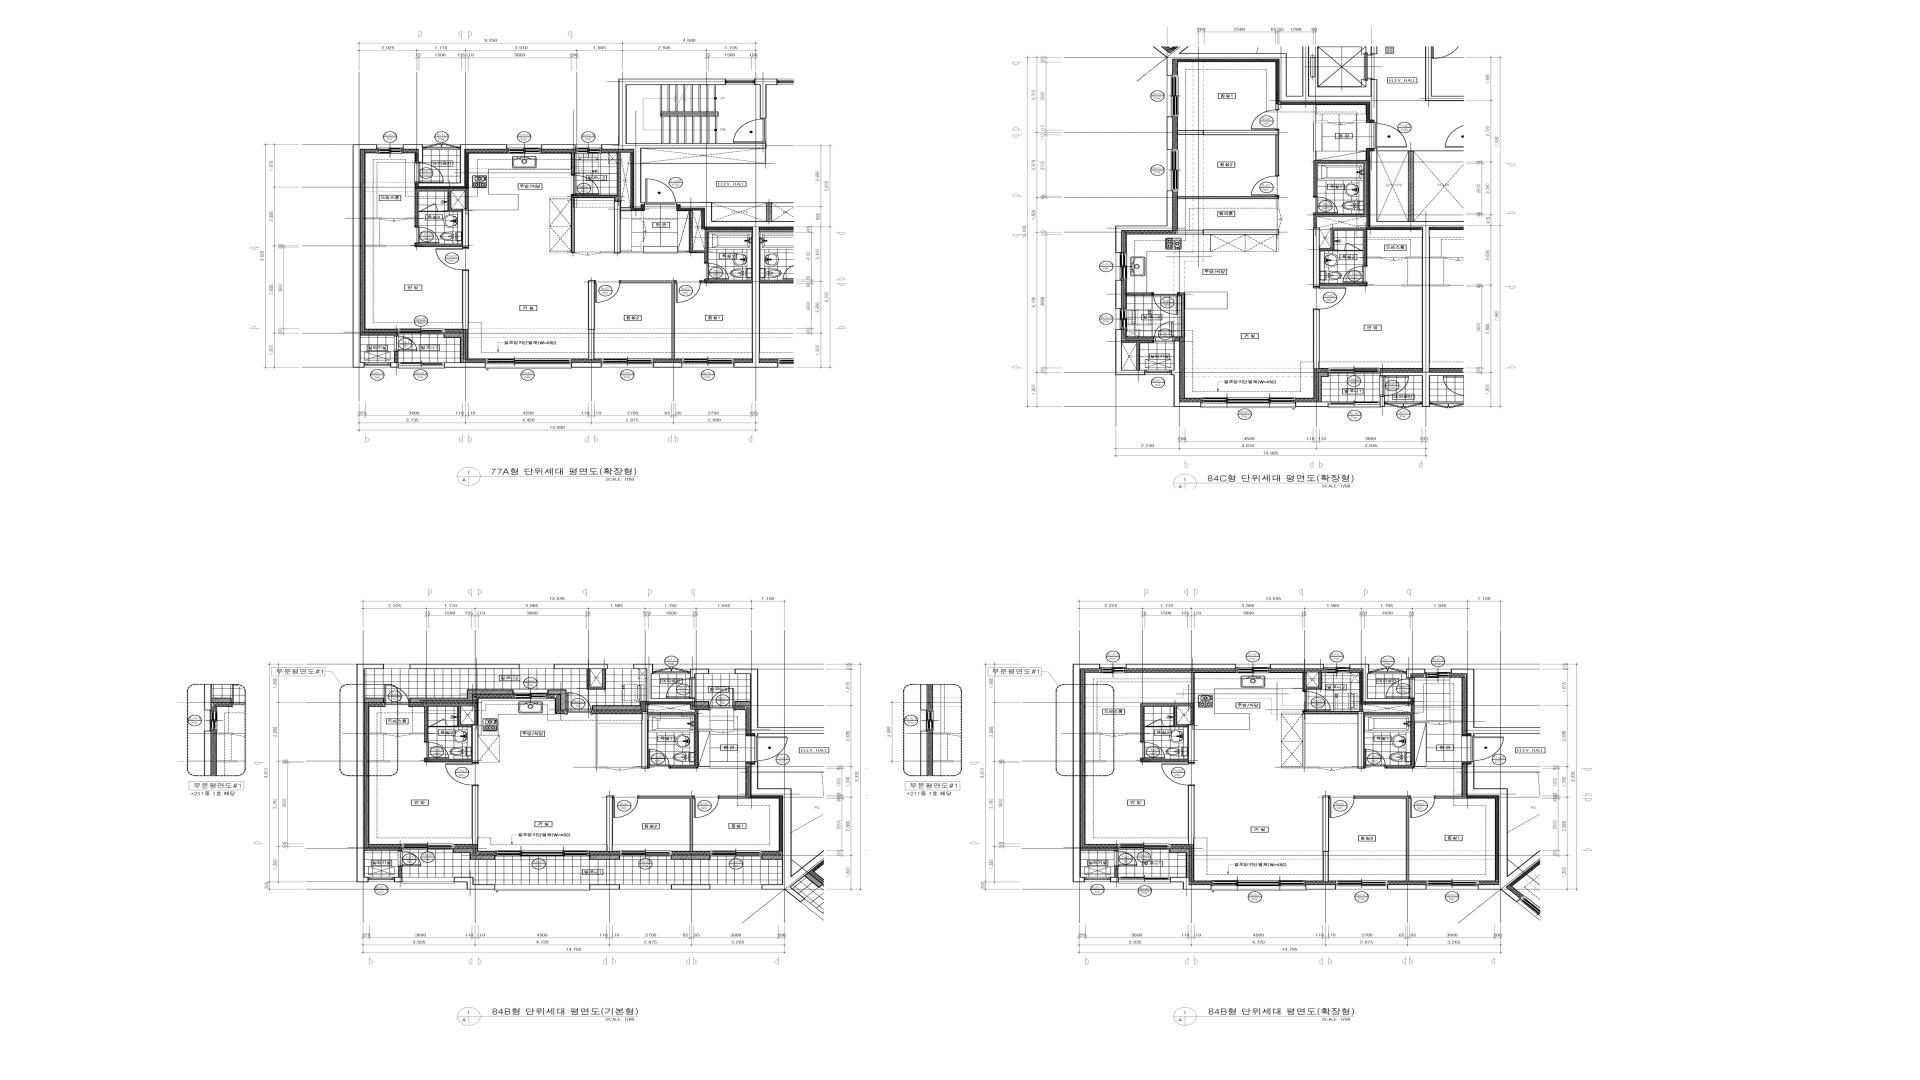door: (1470, 736, 1505, 761), (645, 178, 676, 204), (1374, 123, 1407, 148), (754, 736, 787, 761), (733, 119, 766, 144), (435, 247, 469, 270), (444, 762, 479, 786), (1313, 286, 1346, 310), (1162, 762, 1195, 786), (663, 678, 696, 698), (595, 280, 621, 303), (1153, 291, 1179, 315), (675, 280, 702, 303), (692, 795, 720, 818), (571, 174, 600, 195), (1379, 376, 1408, 397), (384, 684, 410, 707), (1410, 795, 1436, 818), (1251, 175, 1279, 196), (1303, 690, 1331, 711), (414, 162, 443, 182), (1386, 678, 1415, 698), (613, 795, 638, 818), (709, 688, 735, 711), (567, 692, 592, 715), (1329, 795, 1354, 818), (1251, 109, 1279, 129), (1342, 265, 1367, 284), (414, 225, 439, 244), (1365, 749, 1387, 769), (1313, 196, 1338, 214), (423, 741, 448, 758), (1141, 741, 1166, 758), (704, 262, 729, 280), (649, 749, 670, 769), (1154, 322, 1174, 342), (1114, 851, 1138, 866), (398, 851, 421, 866), (394, 335, 417, 351), (1385, 401, 1422, 409), (1369, 667, 1407, 674), (423, 142, 460, 149), (653, 667, 690, 674), (421, 203, 438, 212), (1345, 243, 1362, 251), (430, 719, 447, 727), (1146, 719, 1163, 727), (1428, 720, 1451, 725), (1276, 208, 1282, 229), (575, 252, 601, 256), (1381, 257, 1407, 261), (381, 218, 406, 222), (712, 729, 735, 733), (607, 767, 633, 770), (1319, 767, 1345, 770), (1101, 733, 1127, 736), (1328, 123, 1353, 125), (385, 733, 410, 736), (644, 222, 646, 241)
wall: (1370, 148, 1464, 406), (601, 78, 766, 208), (676, 202, 794, 368), (1153, 46, 1378, 123), (750, 761, 824, 902), (1466, 761, 1540, 902), (550, 152, 620, 253), (356, 663, 384, 882), (736, 669, 824, 736), (1452, 669, 1540, 736), (1073, 663, 1100, 882), (352, 144, 377, 368), (1354, 795, 1410, 881), (1178, 129, 1279, 175), (1282, 711, 1358, 767), (621, 281, 675, 360), (1365, 704, 1428, 769), (418, 144, 508, 186), (1313, 160, 1367, 228), (1116, 190, 1174, 252), (645, 704, 699, 769), (690, 210, 752, 262), (638, 795, 694, 852), (1320, 228, 1367, 286), (406, 189, 469, 227), (633, 663, 695, 702), (1350, 663, 1411, 702), (1178, 229, 1279, 252), (1425, 46, 1464, 102), (425, 703, 479, 741), (1141, 703, 1195, 741), (1171, 340, 1201, 407), (641, 148, 766, 164), (1141, 727, 1188, 762), (425, 727, 472, 762), (601, 200, 632, 253), (409, 690, 513, 703), (1116, 330, 1145, 375), (1178, 196, 1279, 208), (1345, 711, 1365, 769), (754, 79, 778, 119), (1122, 340, 1154, 369), (633, 712, 649, 769), (595, 713, 607, 769), (443, 332, 464, 363), (410, 663, 520, 669), (1126, 663, 1236, 669), (1170, 848, 1189, 877), (1323, 795, 1329, 881), (588, 280, 595, 360), (454, 848, 496, 860), (454, 877, 495, 889), (1170, 877, 1211, 889), (462, 270, 469, 330), (587, 669, 607, 690), (547, 690, 567, 711), (1188, 786, 1195, 845), (472, 786, 479, 845), (1313, 310, 1320, 369), (1313, 228, 1320, 286), (607, 795, 613, 852), (1408, 152, 1414, 222), (1303, 671, 1323, 690), (404, 144, 423, 162), (1319, 372, 1329, 402), (462, 208, 469, 247), (1179, 293, 1185, 338), (554, 663, 608, 669), (1270, 663, 1324, 669), (1313, 104, 1328, 123), (621, 241, 644, 253), (592, 705, 641, 711), (472, 724, 479, 762), (1188, 724, 1195, 762), (1167, 116, 1174, 149), (444, 363, 485, 368), (671, 855, 711, 860), (671, 884, 709, 889), (702, 280, 752, 284), (414, 243, 463, 247), (1116, 280, 1122, 309), (690, 669, 709, 678), (542, 144, 575, 149), (1407, 669, 1425, 678), (589, 855, 620, 860), (571, 363, 601, 368), (1387, 885, 1427, 889), (653, 363, 682, 368), (1296, 402, 1328, 406), (1191, 671, 1195, 703), (766, 203, 773, 222), (589, 885, 620, 889), (1305, 885, 1336, 889), (1378, 150, 1464, 152), (712, 202, 794, 203), (762, 855, 782, 860), (364, 698, 384, 703), (360, 332, 398, 335), (364, 848, 402, 851), (1081, 848, 1118, 851), (571, 152, 575, 174), (735, 700, 750, 705), (1436, 795, 1466, 798), (720, 795, 746, 798), (1126, 293, 1153, 295), (695, 702, 709, 705), (1085, 760, 1106, 762), (1402, 284, 1423, 286), (369, 760, 389, 762), (394, 351, 398, 363), (1114, 866, 1118, 877), (1085, 732, 1101, 735), (369, 732, 385, 735), (398, 866, 402, 877), (394, 877, 402, 882), (1110, 877, 1118, 882), (1407, 256, 1423, 258), (390, 363, 398, 368), (410, 732, 425, 735), (1381, 397, 1385, 406), (1127, 732, 1141, 735), (699, 728, 712, 731), (1367, 256, 1381, 258), (1353, 120, 1366, 123), (1451, 720, 1462, 723), (641, 211, 644, 222), (735, 728, 745, 731), (1360, 704, 1364, 711), (365, 245, 385, 247), (1275, 104, 1279, 109), (365, 218, 381, 219)
window: (1201, 397, 1296, 407), (1212, 881, 1305, 890), (495, 885, 589, 890), (496, 851, 589, 856), (1167, 149, 1179, 190), (1167, 75, 1179, 116), (1336, 880, 1387, 889), (1427, 880, 1478, 889), (485, 364, 572, 369), (485, 359, 571, 364), (682, 359, 733, 367), (601, 359, 653, 367), (1328, 401, 1381, 407), (402, 877, 455, 884), (1118, 877, 1170, 884), (1116, 252, 1127, 280), (513, 690, 547, 699), (1236, 663, 1270, 673), (508, 144, 542, 153), (1328, 368, 1381, 373), (620, 851, 671, 856), (402, 844, 454, 849), (711, 851, 762, 856), (1118, 844, 1170, 849), (1116, 309, 1127, 330), (1425, 669, 1452, 678), (1324, 663, 1350, 673), (1100, 663, 1126, 673), (377, 144, 404, 153), (575, 144, 601, 153), (398, 328, 443, 334), (709, 885, 762, 889), (620, 885, 671, 889), (398, 365, 444, 369), (520, 663, 554, 669), (725, 79, 754, 84), (1145, 369, 1171, 375), (368, 877, 394, 882), (709, 669, 736, 674), (608, 663, 634, 669), (384, 663, 410, 669), (1084, 877, 1110, 882), (364, 363, 390, 368), (398, 363, 444, 365)
